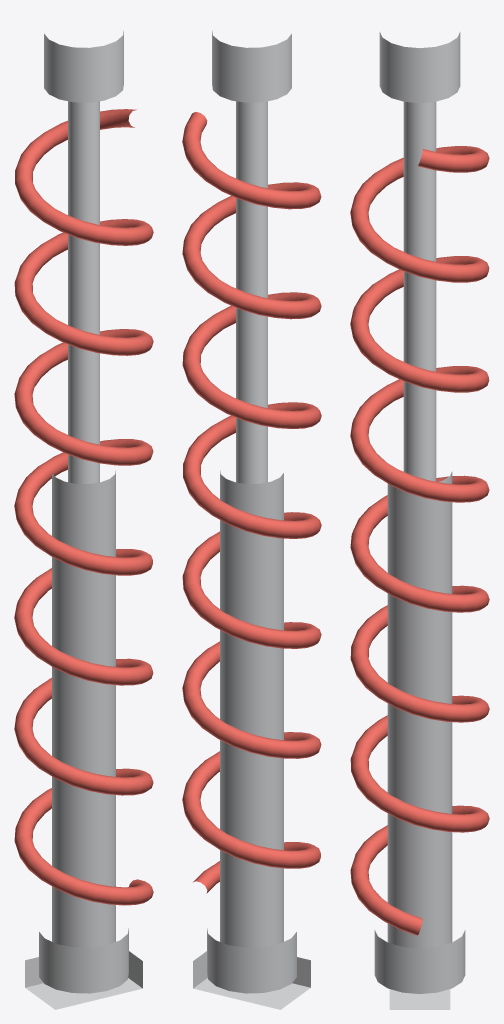
File: strut.glb
3 renders of one model, left to right at view 1: azimuth 30°, elevation 25°; view 2: azimuth 150°, elevation 25°; view 3: azimuth 270°, elevation 25°, orthographic.
Visible parts, largest first — view 1: strut, strut_coil, strut_piston; view 2: strut, strut_coil, strut_piston; view 3: strut, strut_coil, strut_piston.
Part boxes in pixels (x1,y1,x2,y2): strut: [25, 470, 142, 1009]; strut_coil: [14, 109, 153, 905]; strut_piston: [44, 30, 123, 484]; strut: [193, 470, 310, 1009]; strut_coil: [182, 112, 321, 893]; strut_piston: [212, 30, 291, 484]; strut: [374, 471, 465, 1009]; strut_coil: [350, 146, 489, 935]; strut_piston: [379, 32, 460, 481].
Bounding box in the file's own units: 0.138 × 1.04 × 0.138.
